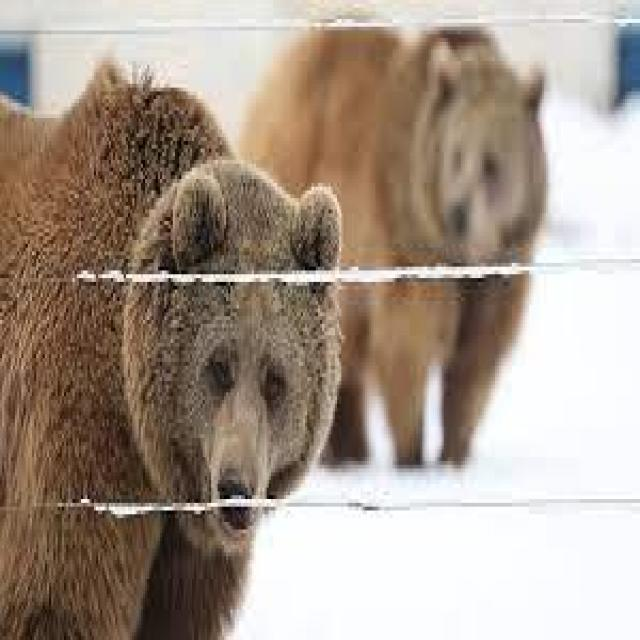Bear: (0, 69, 348, 640), (237, 23, 548, 469)
